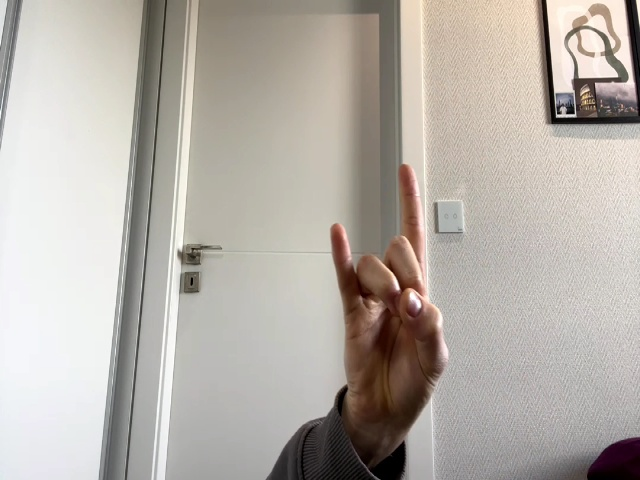Y: (331, 164, 449, 421)
